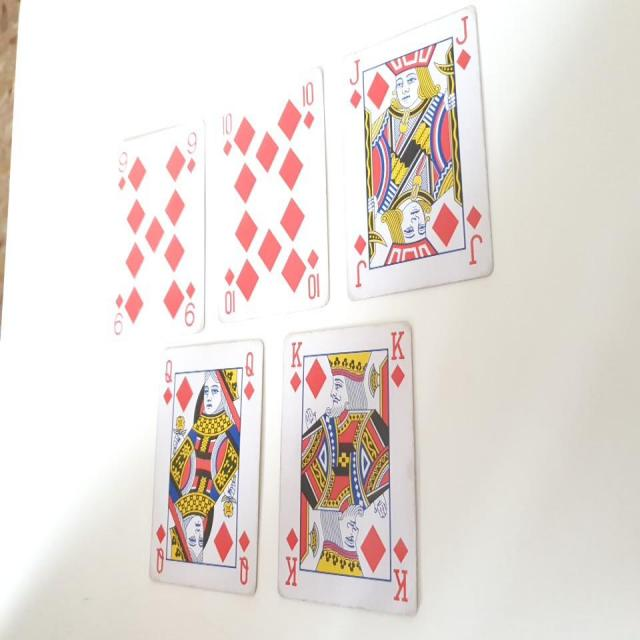10 Diamonds: (214, 66, 331, 325)
9 Diamonds: (103, 117, 206, 344)
J Diamonds: (336, 1, 496, 302)
K Diamonds: (275, 317, 420, 615)
Q Diamonds: (147, 336, 266, 597)
